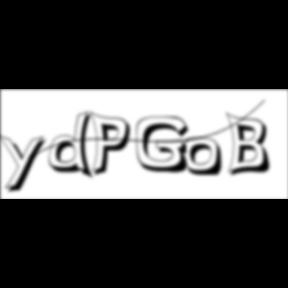B: (226, 111, 276, 179)
G: (136, 116, 196, 176)
P: (90, 110, 136, 180)
d: (49, 110, 99, 182)
o: (183, 137, 225, 179)
y: (0, 132, 52, 196)
